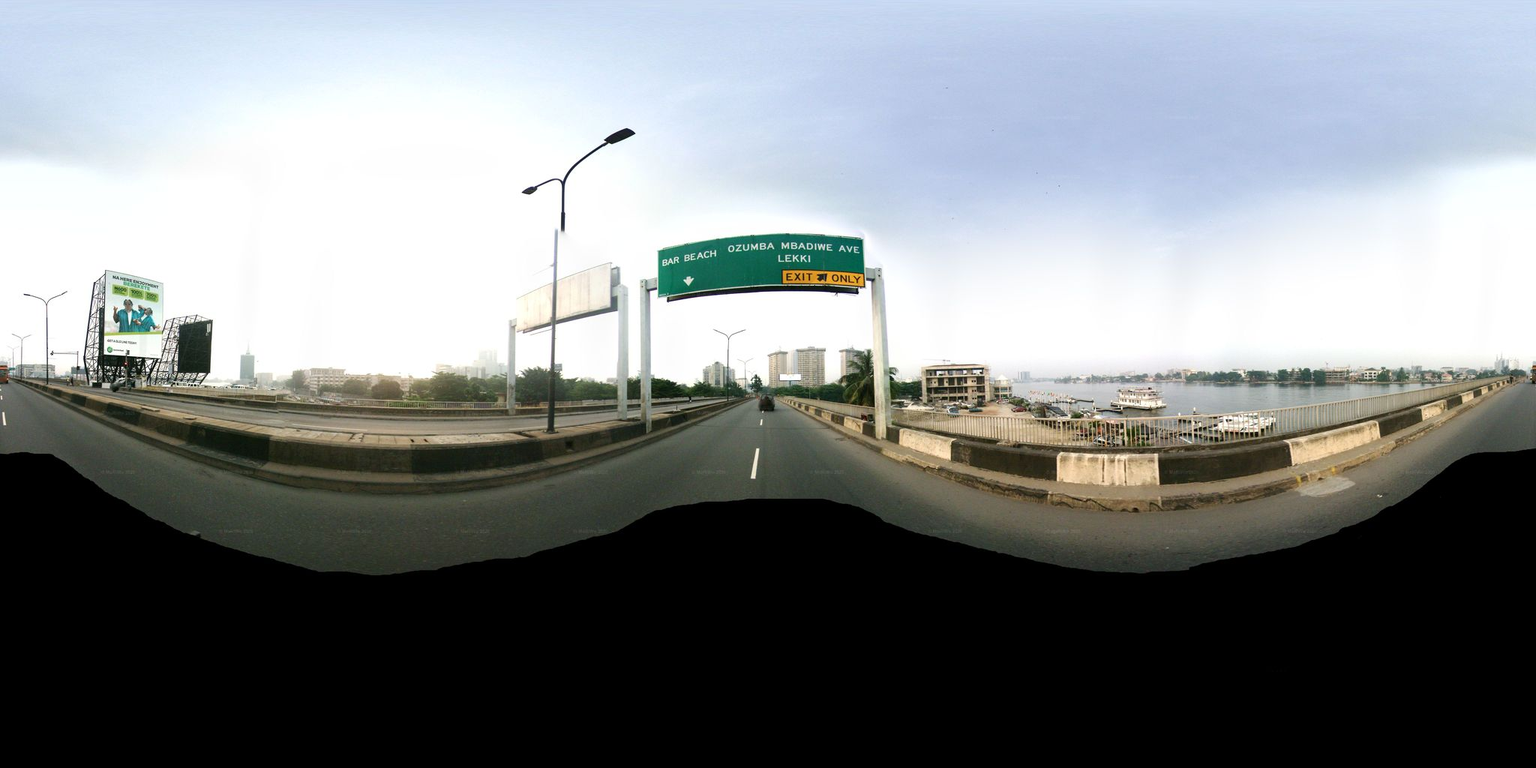Billboard: (656, 233, 866, 300), (86, 270, 167, 380)
